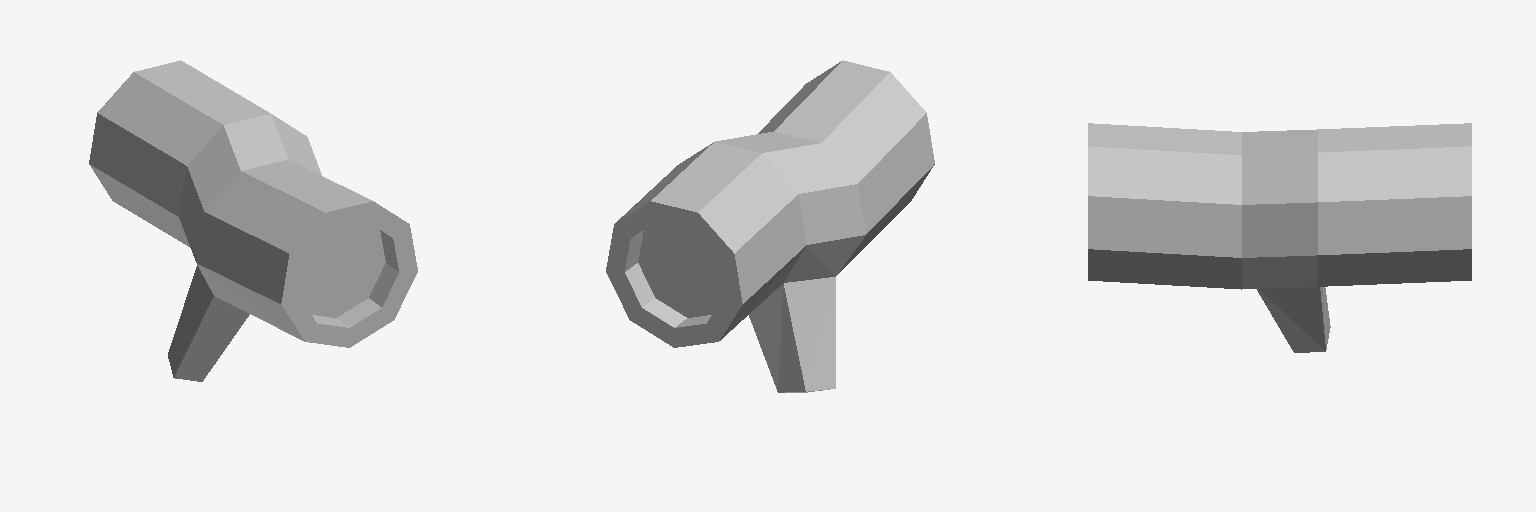
Rendered from log.obj.
The picture shows the model from 3 angles: view 1: azimuth 30°, elevation 25°; view 2: azimuth 150°, elevation 25°; view 3: azimuth 270°, elevation 25°; orthographic projection.
Parts seen in each view (by area): view 1: Stump.003_Mat_tree_0; view 2: Stump.003_Mat_tree_0; view 3: Stump.003_Mat_tree_0.
Part boxes in pixels (left/top/right/bottom): Stump.003_Mat_tree_0: left=89, top=60, right=417, bottom=381; Stump.003_Mat_tree_0: left=606, top=60, right=934, bottom=392; Stump.003_Mat_tree_0: left=1088, top=123, right=1471, bottom=352.
Bounding box in the file's own units: 0.3892 × 0.5659 × 0.8218.